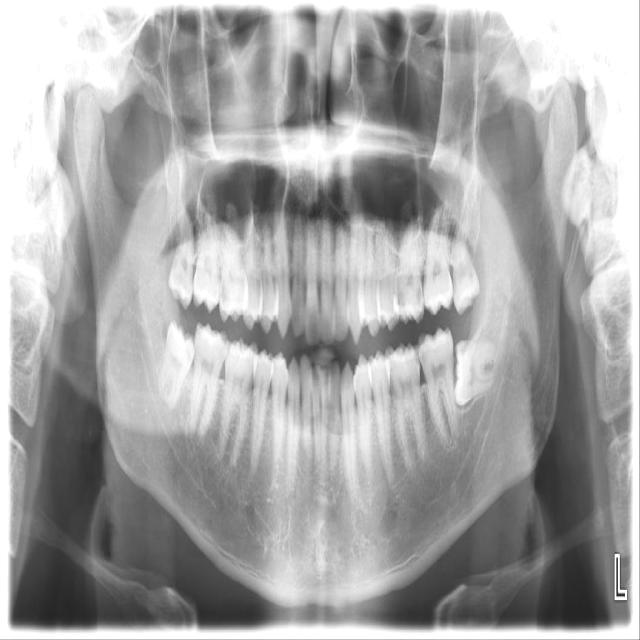impacted tooth: (158, 322, 197, 412), (454, 337, 505, 405)
